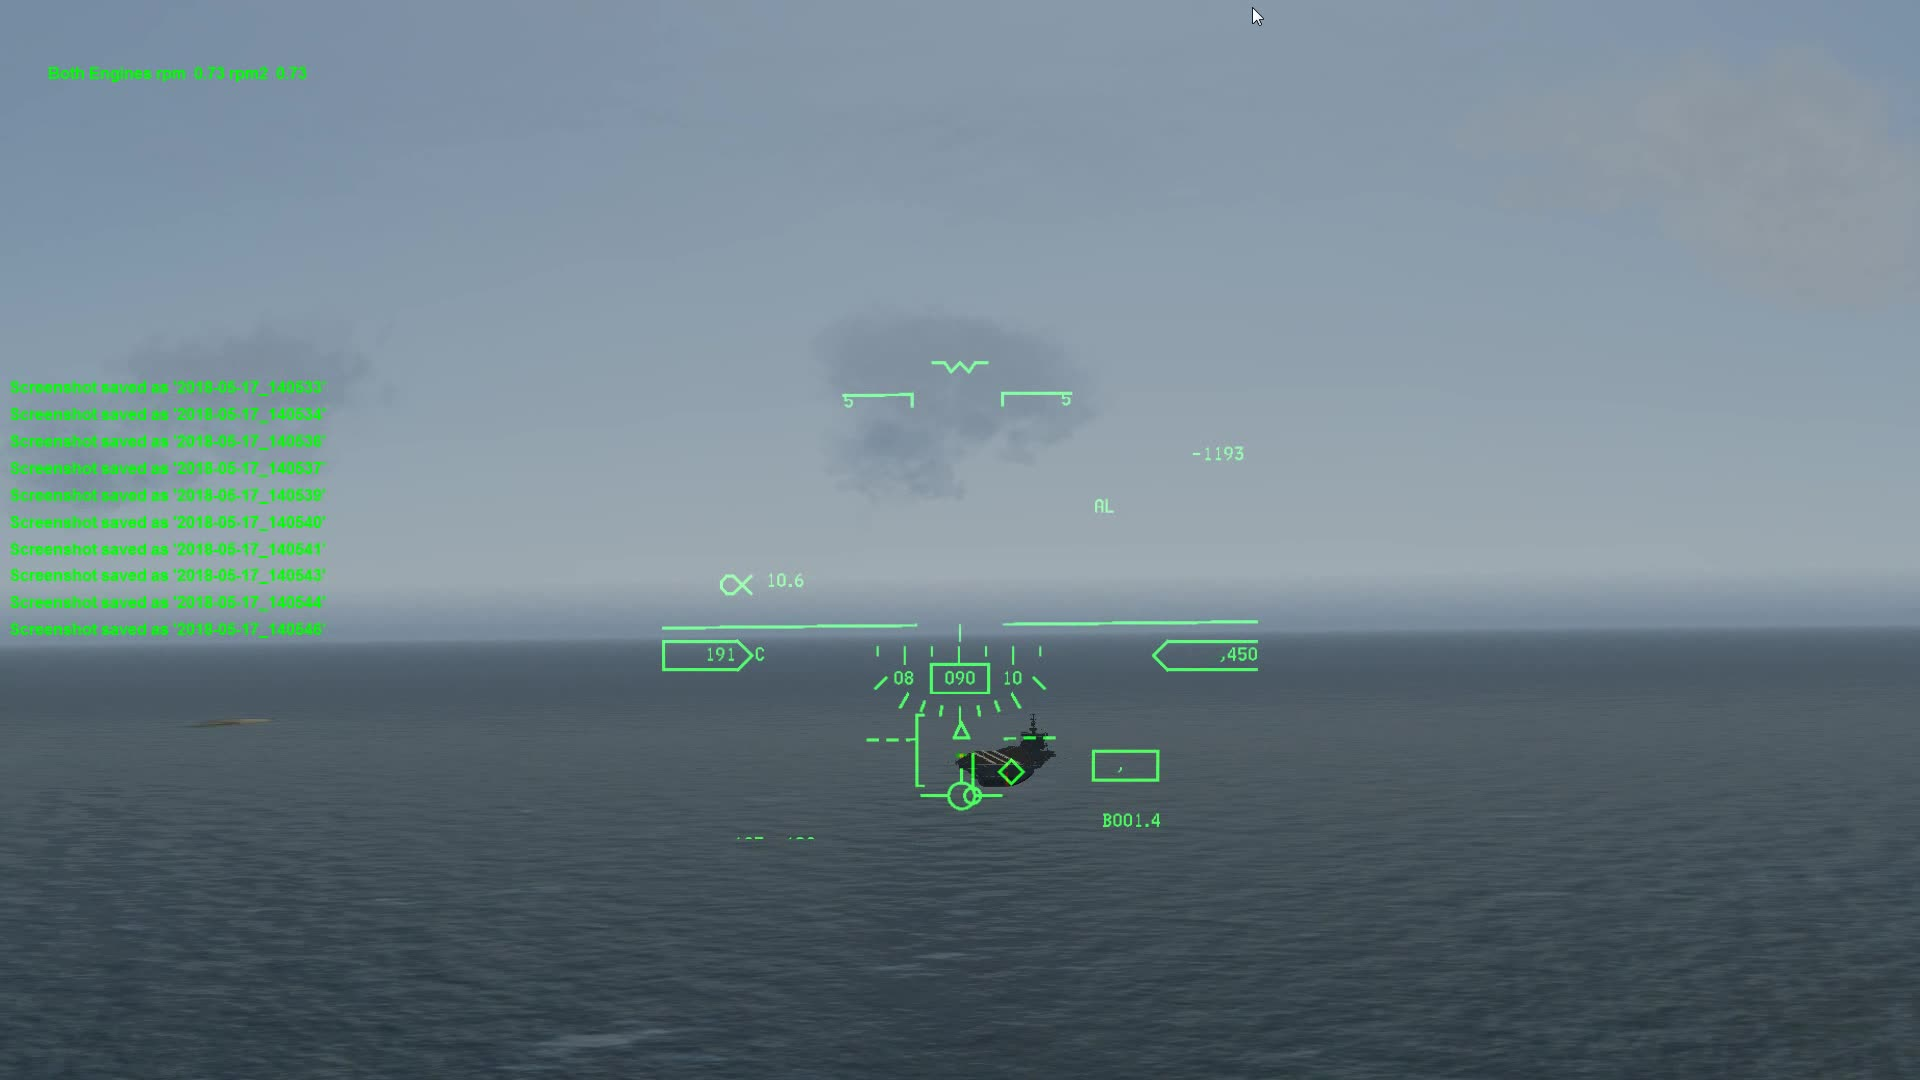speed vector: (918, 769, 1010, 814)
